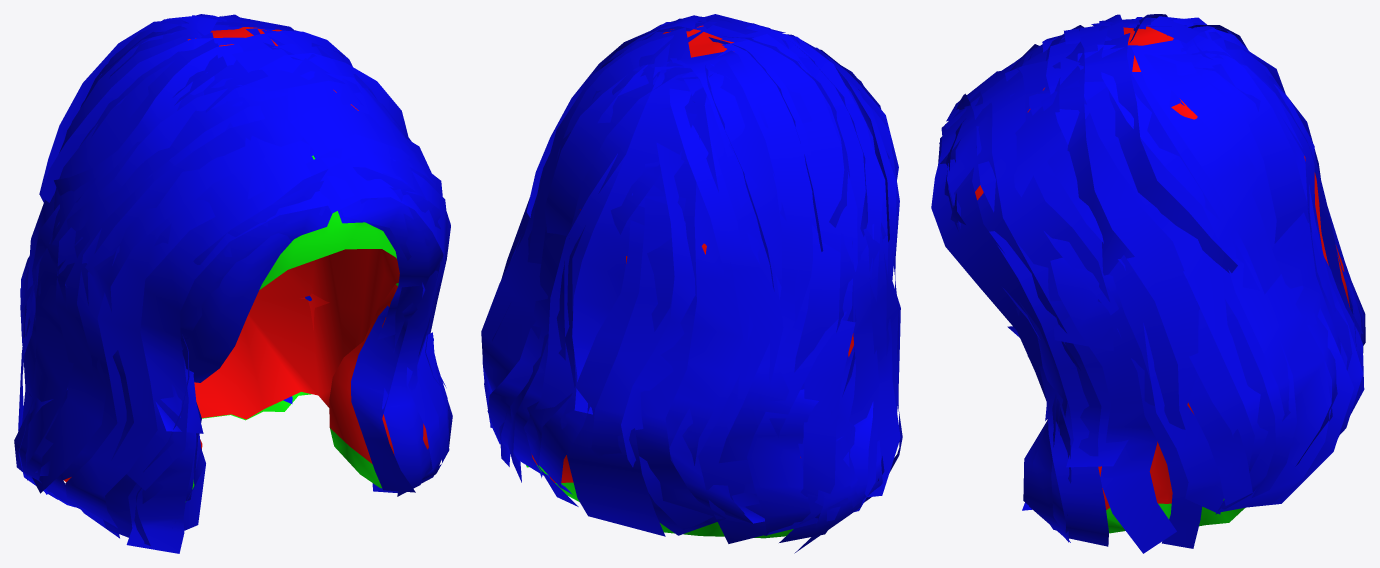
Rendered from hair_008.obj.
3 views of the same model, side by side, from view 1: azimuth 30°, elevation 25°; view 2: azimuth 150°, elevation 25°; view 3: azimuth 270°, elevation 25° (orthographic). The views are drawn at different scales.
Size of the model in its own units: 24.58 by 29.45 by 25.87.
